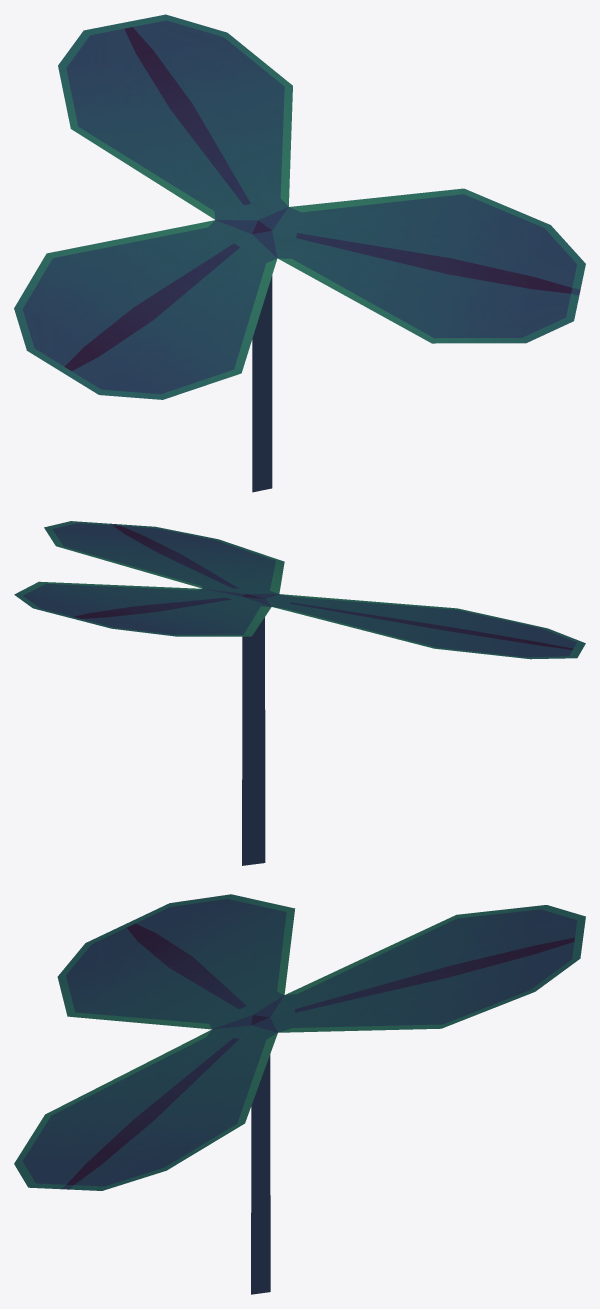
Rendered from Flowers_Clover.fbx.
3 views of the same model, one above another, from view 1: azimuth 30°, elevation 25°; view 2: azimuth 150°, elevation 25°; view 3: azimuth 270°, elevation 25° (orthographic). The views are drawn at different scales.
Visible parts, largest first — view 1: Plane.026; view 2: Plane.026; view 3: Plane.026.
Boxes of the visible parts, box(x1,y1,x2,y2) form: Plane.026: box(14, 14, 585, 492); Plane.026: box(14, 521, 585, 865); Plane.026: box(14, 894, 585, 1294).
Bounding box in the file's own units: 29.44 × 18.56 × 26.46.
